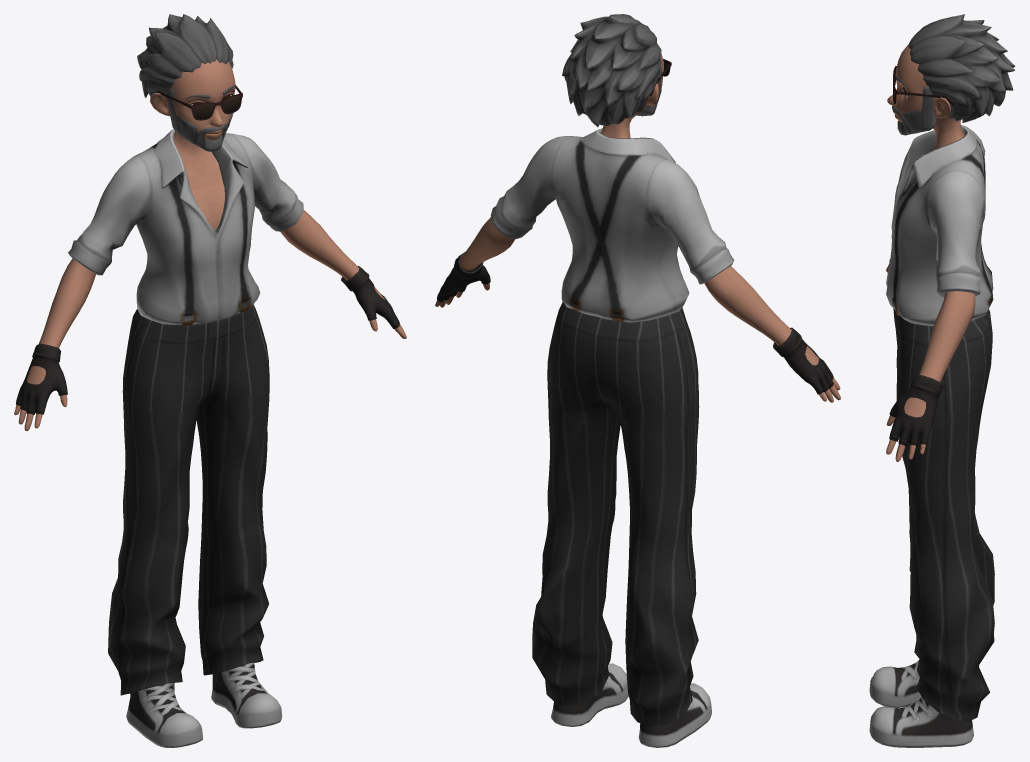
The model's file is StaffOldTourist_Mesh.obj.
3 renders of one model, left to right at view 1: azimuth 30°, elevation 25°; view 2: azimuth 150°, elevation 25°; view 3: azimuth 270°, elevation 25°, orthographic. The views are drawn at different scales.
Parts seen in each view (by area): view 1: StaffOldTourist_Mesh_0; view 2: StaffOldTourist_Mesh_0; view 3: StaffOldTourist_Mesh_0.
Part boxes in pixels (x1,y1,x2,y2): StaffOldTourist_Mesh_0: [14, 14, 406, 747]; StaffOldTourist_Mesh_0: [435, 14, 840, 747]; StaffOldTourist_Mesh_0: [869, 14, 1014, 747].
Size of the model in its own units: 1.06 by 1.83 by 0.3456.
1 material, 1 textured.
